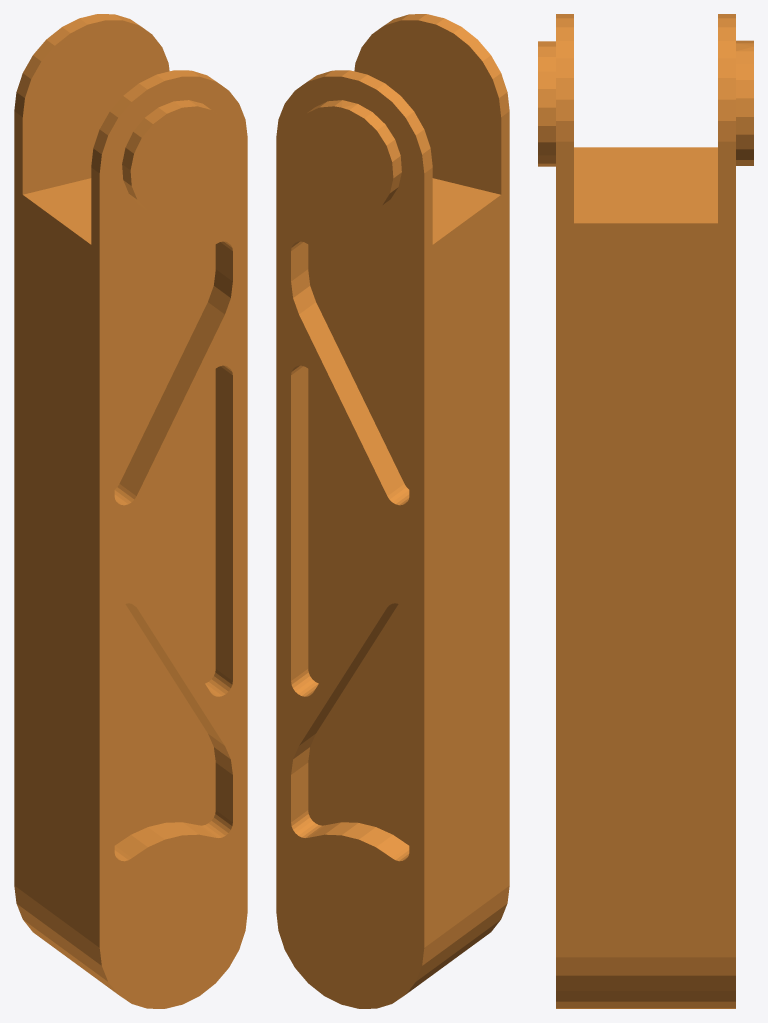
File: forearm.dae
3 views of the same model, side by side, from view 1: azimuth 30°, elevation 25°; view 2: azimuth 150°, elevation 25°; view 3: azimuth 270°, elevation 25° (orthographic). The views are drawn at different scales.
Visible parts, largest first — view 1: Forearm; view 2: Forearm; view 3: Forearm.
Part boxes in pixels (x1,y1,x2,y2): Forearm: (14,14,247,1008); Forearm: (276,14,509,1008); Forearm: (538,14,753,1008).
Size of the model in its own units: 0.05 by 0.06 by 0.2996.
